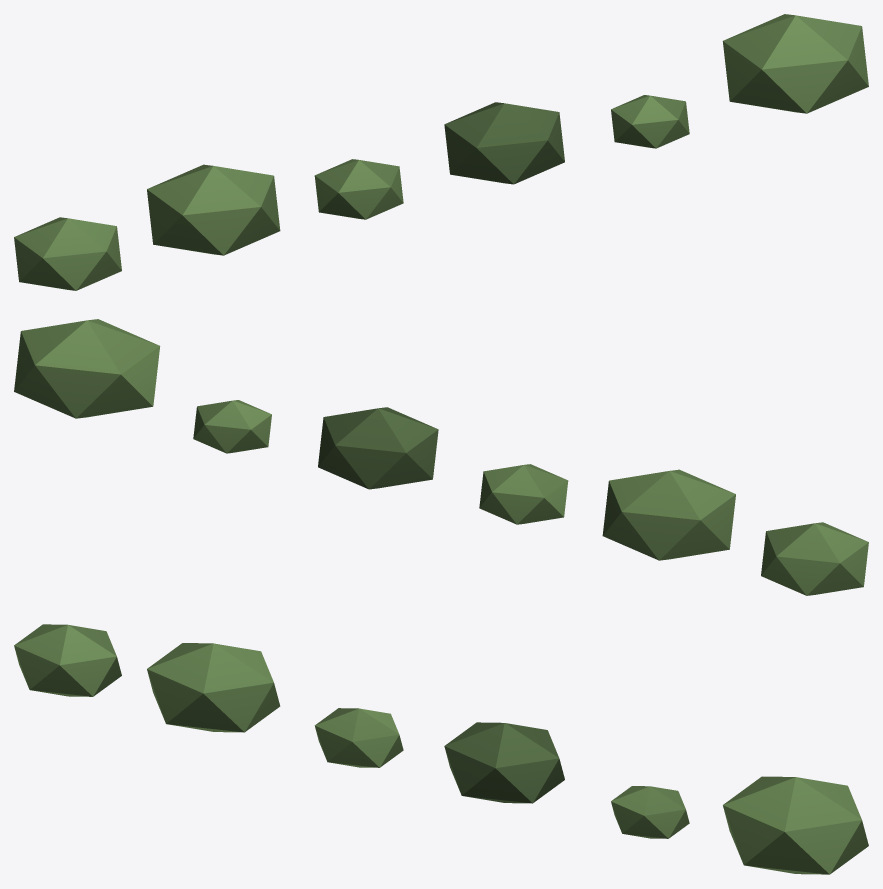
Rendered from bushes.glb.
The picture shows the model from 3 angles, top to bottom: view 1: azimuth 30°, elevation 25°; view 2: azimuth 150°, elevation 25°; view 3: azimuth 330°, elevation 25°; orthographic projection.
Visible parts, largest first — view 1: bush_5, bush_1, bush_3, bush_0, bush_2, bush_4; view 2: bush_5, bush_1, bush_3, bush_0, bush_2, bush_4; view 3: bush_5, bush_1, bush_3, bush_0, bush_2, bush_4.
Boxes of the visible parts, x1,y1,x2,y2 form: bush_5: (722,14,868,113); bush_1: (147,164,280,255); bush_3: (444,102,564,184); bush_0: (14,217,121,290); bush_2: (314,159,403,219); bush_4: (611,95,689,148); bush_5: (14,319,160,418); bush_1: (602,469,735,560); bush_3: (318,407,438,489); bush_0: (761,522,868,595); bush_2: (479,464,568,524); bush_4: (193,400,271,453); bush_5: (723,776,868,874); bush_1: (147,643,280,732); bush_3: (444,722,564,803); bush_0: (14,624,121,696); bush_2: (314,708,403,767); bush_4: (611,786,689,838).
Size of the model in its own units: 15.06 by 1.66 by 1.96.
